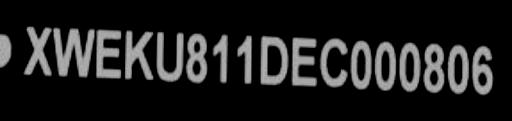letter: (52, 26, 94, 77), (256, 33, 290, 86), (123, 28, 155, 81), (319, 35, 349, 90), (289, 35, 319, 88), (23, 24, 53, 75), (155, 30, 183, 83), (94, 28, 122, 79), (398, 38, 422, 93), (373, 39, 397, 92), (422, 40, 446, 93), (446, 42, 470, 95), (470, 44, 494, 97), (350, 36, 372, 93), (186, 31, 208, 86), (210, 31, 228, 82), (234, 33, 252, 84)
